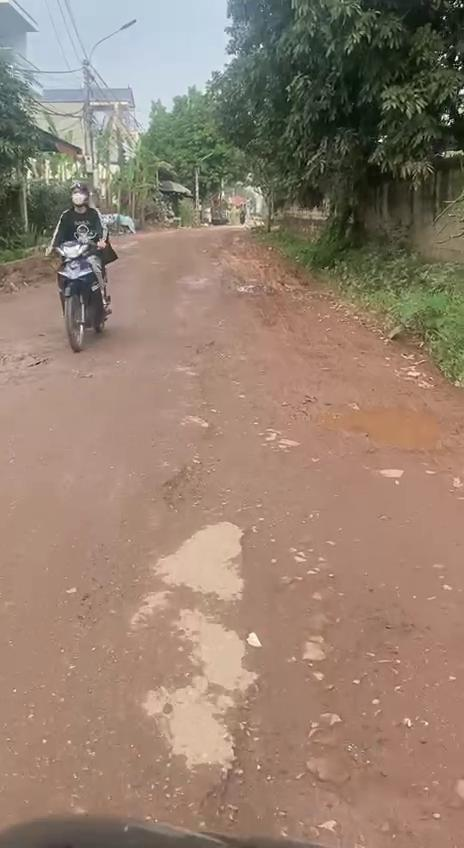pothole: (184, 733, 372, 848), (316, 394, 464, 457), (159, 463, 243, 522)
